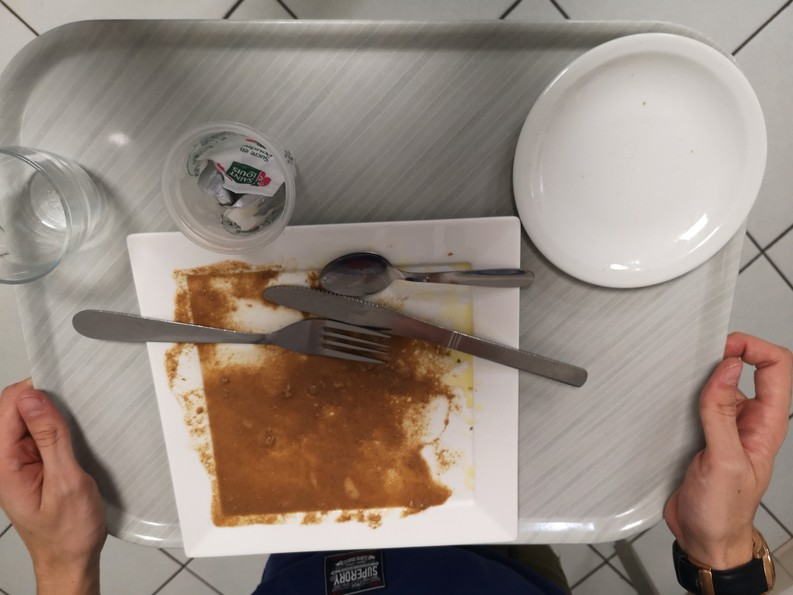cup: (1, 119, 97, 295)
cutlery: (260, 277, 592, 392), (65, 287, 396, 373), (325, 248, 535, 305)
orga: (256, 364, 410, 492)
trash: (154, 116, 312, 257)
